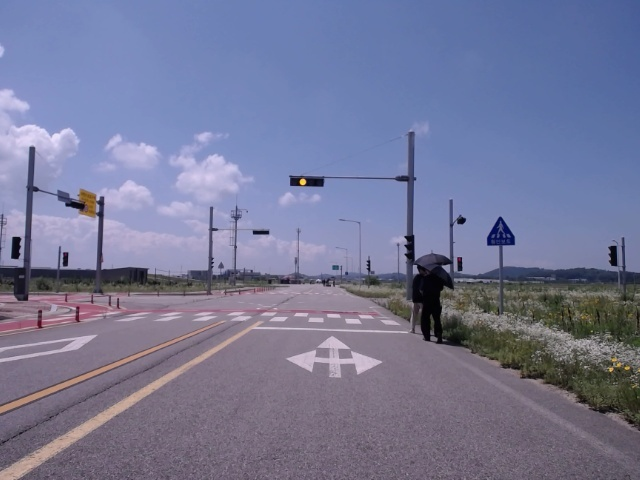orange_4: (290, 176, 325, 188)
